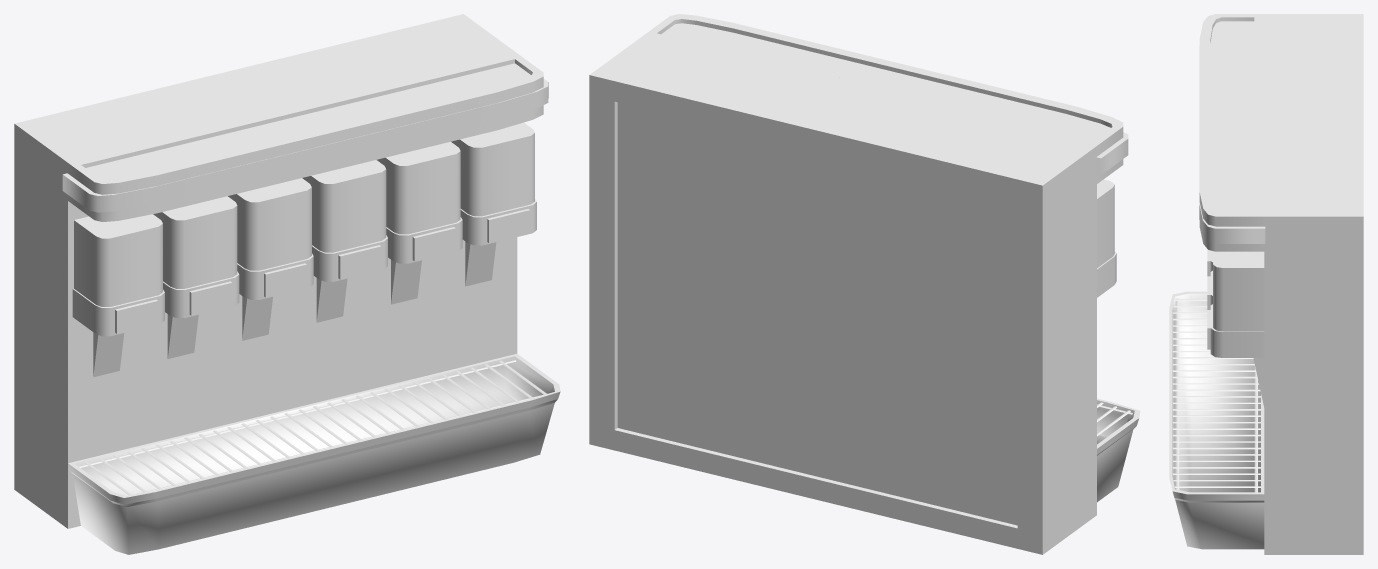
The model's file is SodaStand.glb.
3 renders of one model, left to right at view 1: azimuth 30°, elevation 25°; view 2: azimuth 150°, elevation 25°; view 3: azimuth 270°, elevation 25°, orthographic. The views are drawn at different scales.
Parts seen in each view (by area): view 1: LOD0; view 2: LOD0; view 3: LOD0.
Part boxes in pixels (bbox=[...]): LOD0: bbox=[14, 14, 560, 554]; LOD0: bbox=[589, 14, 1140, 554]; LOD0: bbox=[1169, 14, 1363, 554].
Size of what is drawn, in the model's own units: 0.5594 by 0.4265 by 0.2219.
5 materials, 1 textured.
